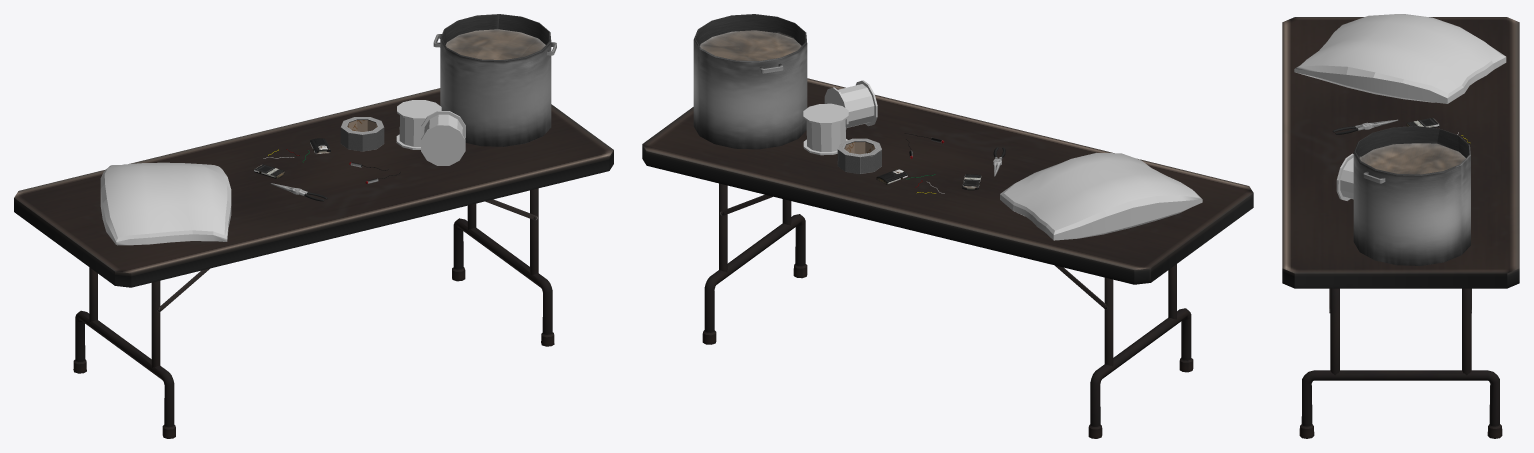
The model's file is bomblabtable01_prp.fbx.
3 renders of one model, left to right at view 1: azimuth 30°, elevation 25°; view 2: azimuth 150°, elevation 25°; view 3: azimuth 270°, elevation 25°, orthographic. The views are drawn at different scales.
Visible parts, largest first — view 1: folding_table01_prop_1, pot02_prp_1, fertbag01_prp_1, wirespool02_prp_1, wirespool01_prp_1, ducttape01_prp_1; view 2: folding_table01_prop_1, pot02_prp_1, fertbag01_prp_1, wirespool01_prp_1, wirespool02_prp_1, ducttape01_prp_1; view 3: folding_table01_prop_1, pot02_prp_1, fertbag01_prp_1, wirespool02_prp_1, Pilers01_prp_1.
Boxes of the visible parts, x1,y1,x2,y2 form: folding_table01_prop_1: (14, 88, 613, 438); pot02_prp_1: (433, 14, 556, 146); fertbag01_prp_1: (100, 162, 231, 245); wirespool02_prp_1: (421, 111, 465, 165); wirespool01_prp_1: (396, 100, 441, 149); ducttape01_prp_1: (340, 117, 384, 151); folding_table01_prop_1: (642, 78, 1253, 438); pot02_prp_1: (693, 14, 807, 149); fertbag01_prp_1: (1000, 153, 1202, 240); wirespool01_prp_1: (803, 103, 848, 155); wirespool02_prp_1: (824, 80, 877, 129); ducttape01_prp_1: (837, 138, 881, 174); folding_table01_prop_1: (1282, 17, 1519, 438); pot02_prp_1: (1353, 126, 1470, 265); fertbag01_prp_1: (1294, 14, 1506, 103); wirespool02_prp_1: (1336, 153, 1353, 200); Pilers01_prp_1: (1332, 119, 1398, 134).
Size of the model in its own units: 2.41 by 1.25 by 0.9424.
